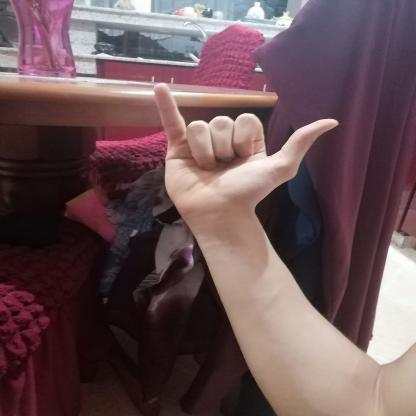YA: (132, 72, 351, 233)
